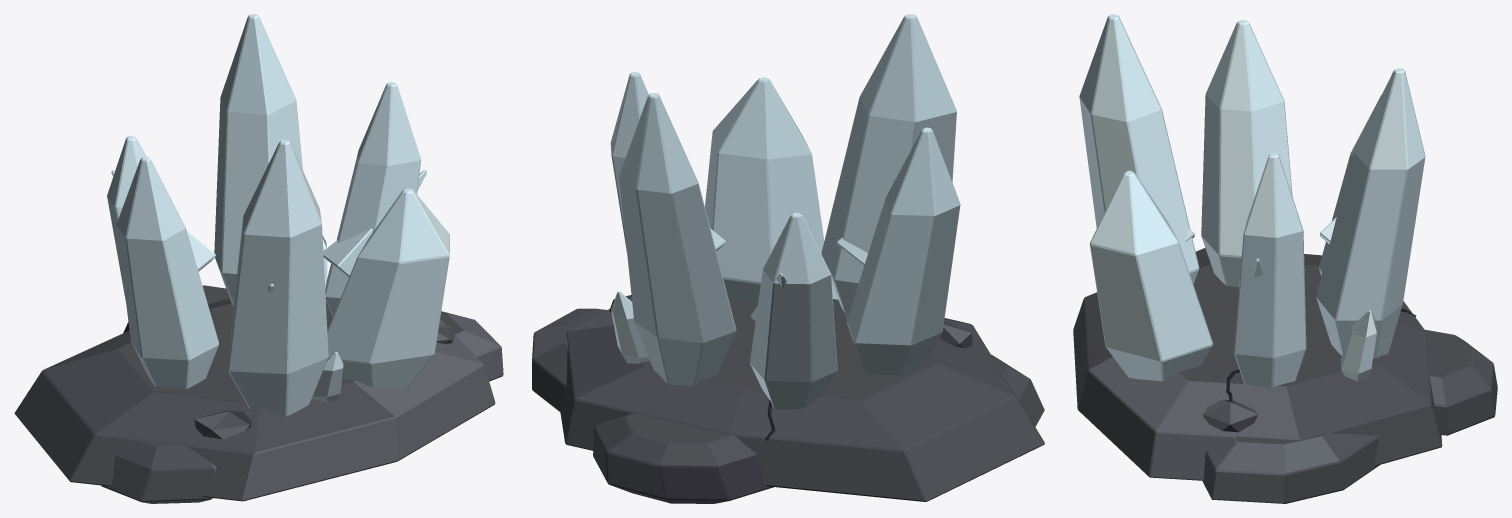
File: BH_ORE_O10_Gelo_Fantasma_V02.glb
3 views of the same model, side by side, from view 1: azimuth 30°, elevation 25°; view 2: azimuth 150°, elevation 25°; view 3: azimuth 270°, elevation 25° (orthographic). The views are drawn at different scales.
Parts seen in each view (by area): view 1: Bedrock | primary.003, O10 | shard 3.003, O10 | shard 4.003, O10 | shard 2.003, O10 | shard 6.003, O10 | shard 5.003, Bedrock | shoulder 1.003, Bedrock | shoulder 2.003, O10 | shard 1.003, O10 | V02 embedded stone ledge.002, Curved ice barb 1.003, O10 | V02 secondary crystal 0.001 (+1 smaller); view 2: Bedrock | primary.003, O10 | shard 6.003, O10 | shard 2.003, O10 | shard 4.003, O10 | shard 3.003, O10 | shard 1.003, Bedrock | shoulder 3.003, Bedrock | shoulder 2.003, O10 | shard 5.003, O10 | V02 secondary crystal 1.001, Bedrock | shoulder 1.003, O10 | V02 embedded stone ledge.002; view 3: Bedrock | primary.003, O10 | shard 6.003, O10 | shard 4.003, O10 | shard 2.003, O10 | shard 3.003, O10 | shard 5.003, Bedrock | shoulder 2.003, Bedrock | shoulder 3.003, O10 | V02 secondary crystal 1.001, O10 | V02 embedded stone ledge.003, O10 | shard 1.003.
Part boxes in pixels (bbox=[...]): Bedrock | primary.003: bbox=[14, 298, 495, 501]; O10 | shard 3.003: bbox=[228, 139, 328, 416]; O10 | shard 4.003: bbox=[327, 188, 449, 388]; O10 | shard 2.003: bbox=[116, 156, 218, 388]; O10 | shard 6.003: bbox=[214, 14, 302, 306]; O10 | shard 5.003: bbox=[325, 82, 421, 316]; Bedrock | shoulder 1.003: bbox=[101, 440, 216, 503]; Bedrock | shoulder 2.003: bbox=[440, 311, 503, 381]; O10 | shard 1.003: bbox=[107, 136, 146, 303]; O10 | V02 embedded stone ledge.002: bbox=[194, 410, 251, 439]; Curved ice barb 1.003: bbox=[323, 170, 426, 277]; O10 | V02 secondary crystal 0.001: bbox=[312, 351, 343, 402]; Bedrock | primary.003: bbox=[559, 299, 1044, 501]; O10 | shard 6.003: bbox=[619, 93, 736, 385]; O10 | shard 2.003: bbox=[847, 127, 960, 375]; O10 | shard 4.003: bbox=[705, 77, 824, 304]; O10 | shard 3.003: bbox=[821, 14, 956, 319]; O10 | shard 1.003: bbox=[750, 212, 837, 409]; Bedrock | shoulder 3.003: bbox=[593, 413, 773, 503]; Bedrock | shoulder 2.003: bbox=[532, 308, 606, 411]; O10 | shard 5.003: bbox=[610, 71, 648, 253]; O10 | V02 secondary crystal 1.001: bbox=[611, 291, 649, 363]; Bedrock | shoulder 1.003: bbox=[991, 354, 1044, 426]; O10 | V02 embedded stone ledge.002: bbox=[939, 321, 972, 348]; Bedrock | primary.003: bbox=[1073, 248, 1442, 480]; O10 | shard 6.003: bbox=[1316, 68, 1425, 358]; O10 | shard 4.003: bbox=[1089, 170, 1212, 381]; O10 | shard 2.003: bbox=[1201, 20, 1292, 286]; O10 | shard 3.003: bbox=[1079, 14, 1199, 284]; O10 | shard 5.003: bbox=[1234, 152, 1306, 387]; Bedrock | shoulder 2.003: bbox=[1202, 433, 1379, 503]; Bedrock | shoulder 3.003: bbox=[1425, 329, 1497, 435]; O10 | V02 secondary crystal 1.001: bbox=[1340, 310, 1377, 381]; O10 | V02 embedded stone ledge.003: bbox=[1203, 399, 1258, 432]; O10 | shard 1.003: bbox=[1319, 94, 1381, 275].
Bounding box in the file's own units: 2.98 × 2.23 × 2.36.
